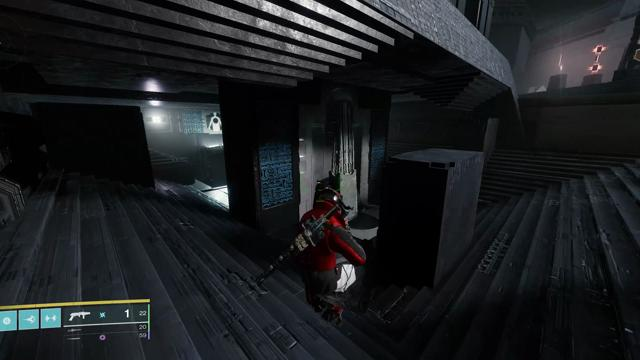grief: (206, 112, 222, 131)
